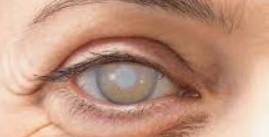eye: (96, 60, 157, 102)
